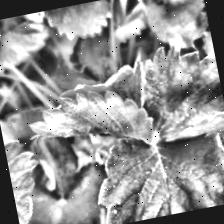Powdery Mildew Leaf: (19, 58, 159, 166), (86, 117, 224, 224), (130, 36, 224, 150), (2, 128, 53, 224)
